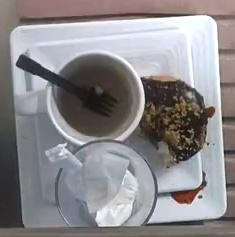dessert: (140, 75, 213, 160)
